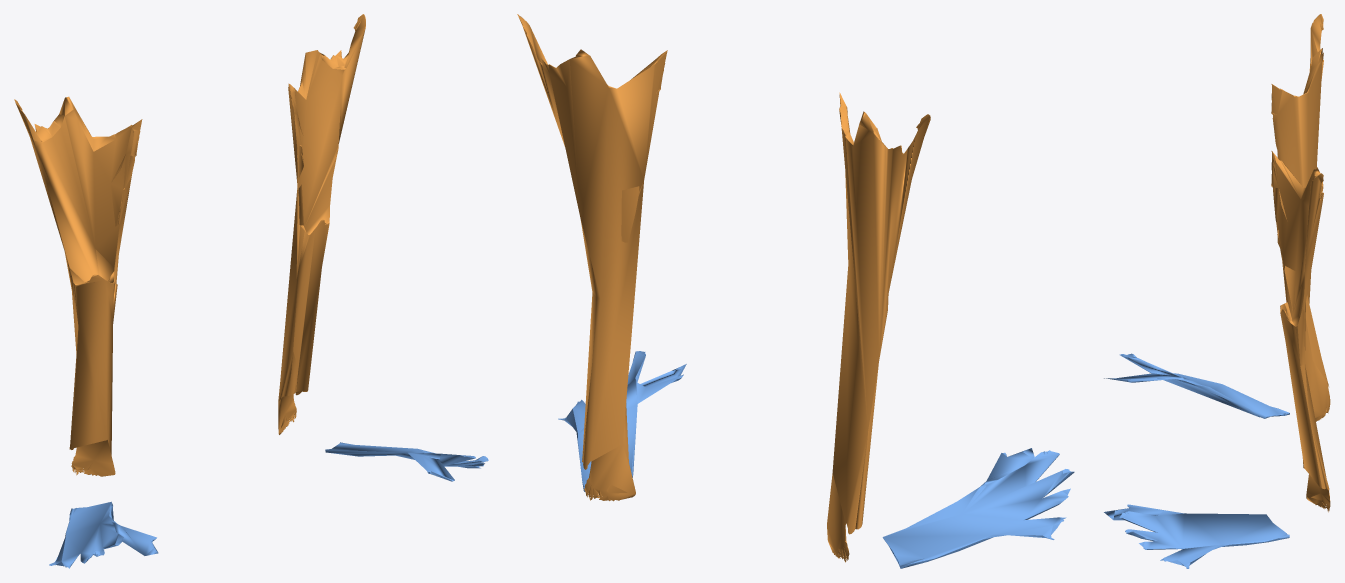
The model's file is supplement-ankle-foot-connective-LEBHC7QV.glb.
3 renders of one model, left to right at view 1: azimuth 30°, elevation 25°; view 2: azimuth 150°, elevation 25°; view 3: azimuth 270°, elevation 25°, orthographic. The views are drawn at different scales.
Parts seen in each view (by area): view 1: supplemental:calcaneal-tendon:isa:FJ1405, supplemental:calcaneal-tendon:isa:FJ1405M, supplemental:long-plantar-ligament:isa:FJ1424, supplemental:long-plantar-ligament:isa:FJ1424M; view 2: supplemental:calcaneal-tendon:isa:FJ1405M, supplemental:calcaneal-tendon:isa:FJ1405, supplemental:long-plantar-ligament:isa:FJ1424, supplemental:long-plantar-ligament:isa:FJ1424M; view 3: supplemental:calcaneal-tendon:isa:FJ1405M, supplemental:calcaneal-tendon:isa:FJ1405, supplemental:long-plantar-ligament:isa:FJ1424M, supplemental:long-plantar-ligament:isa:FJ1424.
Part boxes in pixels (x1=…): supplemental:calcaneal-tendon:isa:FJ1405: x1=14, y1=96, x2=142, y2=476; supplemental:calcaneal-tendon:isa:FJ1405M: x1=278, y1=14, x2=365, y2=434; supplemental:long-plantar-ligament:isa:FJ1424: x1=49, y1=501, x2=158, y2=568; supplemental:long-plantar-ligament:isa:FJ1424M: x1=325, y1=442, x2=488, y2=481; supplemental:calcaneal-tendon:isa:FJ1405M: x1=517, y1=14, x2=667, y2=501; supplemental:calcaneal-tendon:isa:FJ1405: x1=827, y1=92, x2=930, y2=562; supplemental:long-plantar-ligament:isa:FJ1424: x1=882, y1=448, x2=1074, y2=568; supplemental:long-plantar-ligament:isa:FJ1424M: x1=558, y1=351, x2=686, y2=491; supplemental:calcaneal-tendon:isa:FJ1405M: x1=1271, y1=151, x2=1330, y2=512; supplemental:calcaneal-tendon:isa:FJ1405: x1=1271, y1=14, x2=1330, y2=421; supplemental:long-plantar-ligament:isa:FJ1424M: x1=1104, y1=504, x2=1289, y2=568; supplemental:long-plantar-ligament:isa:FJ1424: x1=1104, y1=353, x2=1289, y2=418.
Bounding box in the file's own units: 0.2357 × 0.2185 × 0.1174.
